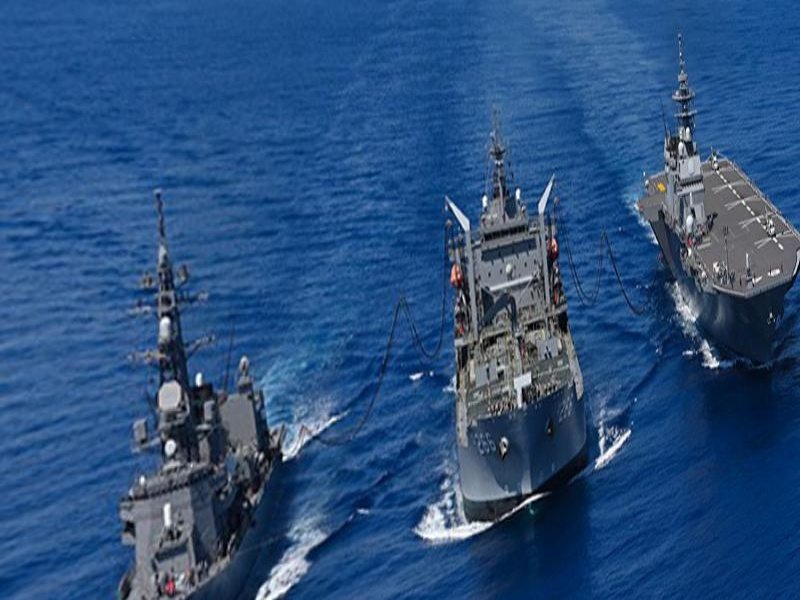carrier: (628, 57, 794, 362)
cruise: (434, 167, 593, 523), (118, 258, 268, 600)
